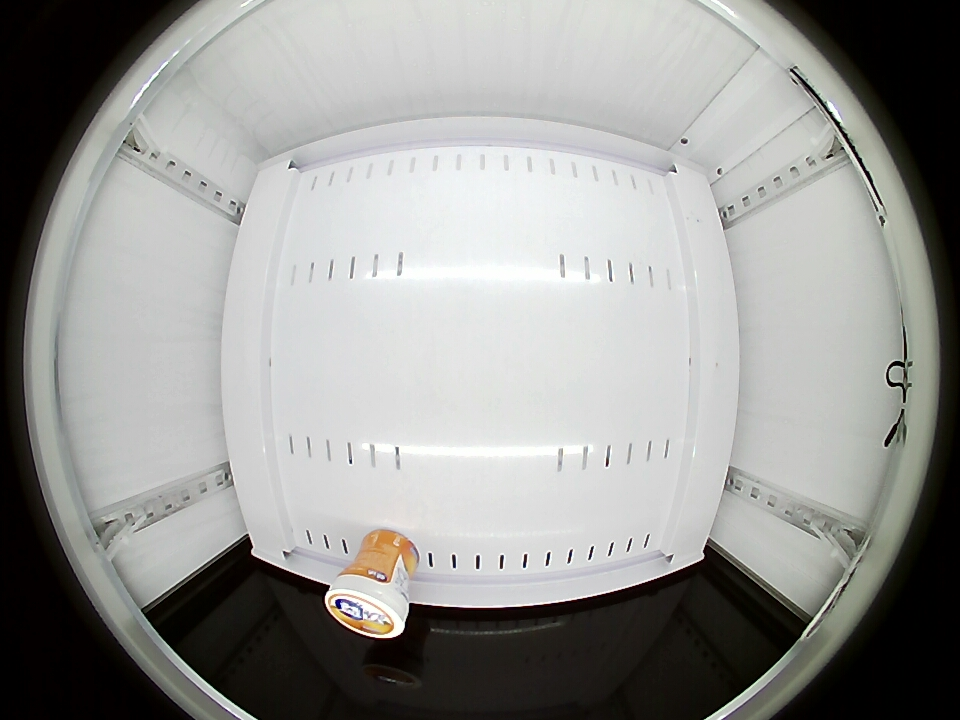yida: (325, 572, 410, 639)
